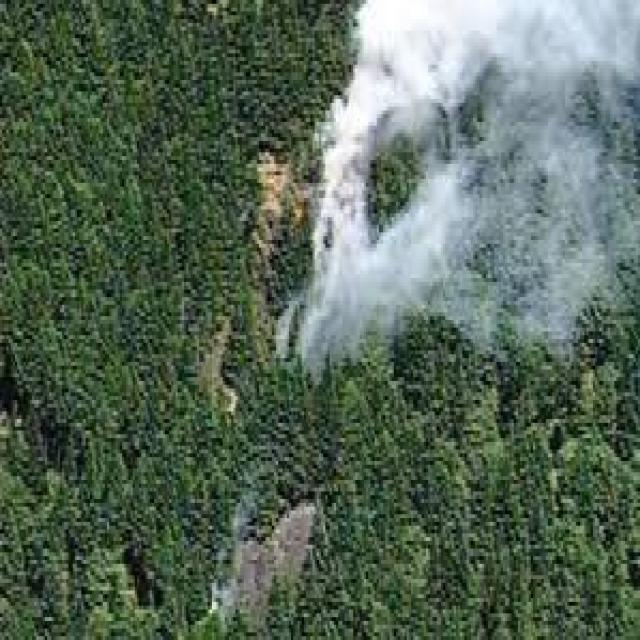Smoke: (276, 0, 640, 385)
